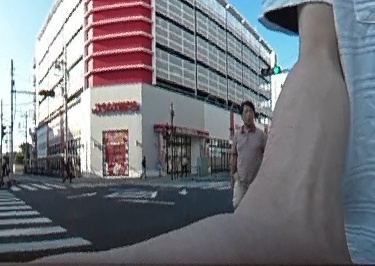person: (232, 99, 263, 209), (64, 155, 74, 182), (141, 154, 147, 176), (181, 154, 186, 175)
